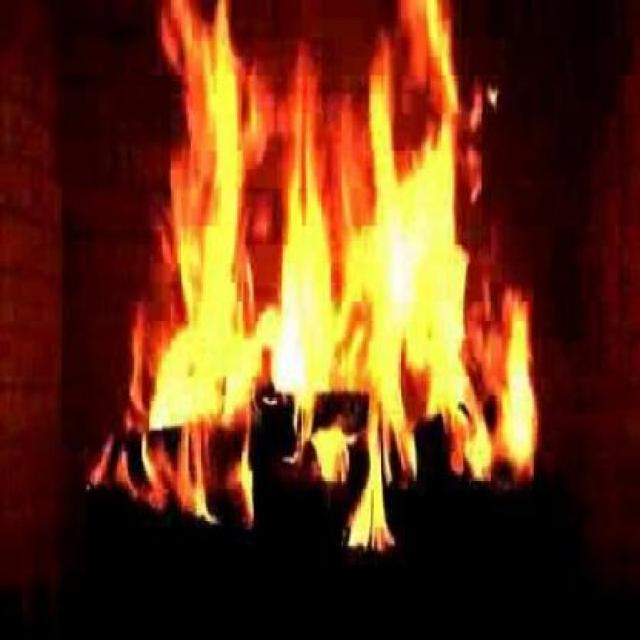Fire: (86, 0, 540, 554)
